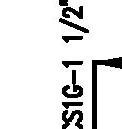verticaltext: (57, 1, 87, 129)
